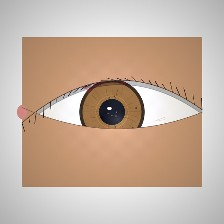hemorrhage_spot: (76, 75, 135, 123)
